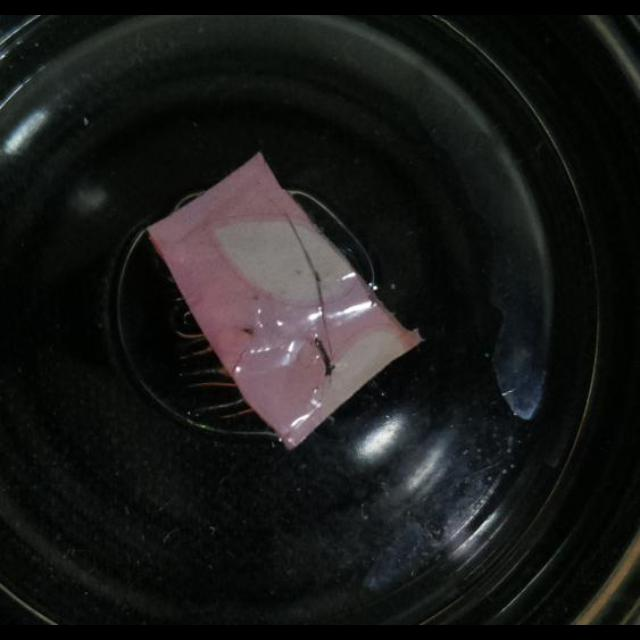Fragment: (147, 150, 420, 450)
